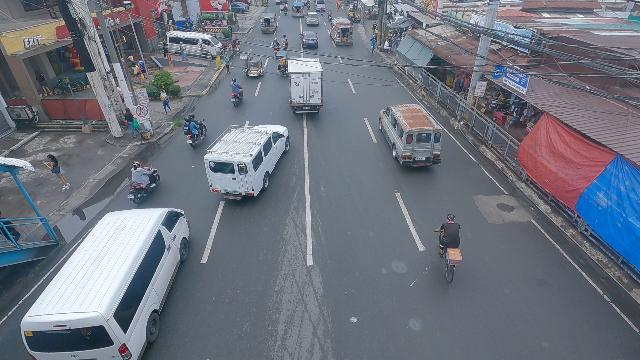car: (299, 31, 319, 50), (305, 11, 319, 26)
jeepney: (377, 102, 442, 169), (329, 17, 354, 48), (260, 12, 278, 34), (291, 3, 304, 19), (349, 2, 357, 12)
motorcycle: (429, 221, 457, 281), (127, 161, 161, 205), (184, 118, 207, 148), (230, 78, 244, 108), (272, 38, 280, 55), (281, 35, 288, 50), (284, 4, 288, 16), (328, 9, 332, 20), (320, 6, 324, 17), (307, 2, 310, 9)
truck: (287, 57, 326, 118)
van: (19, 203, 193, 360), (203, 122, 291, 200), (165, 31, 223, 60), (315, 0, 326, 12)
